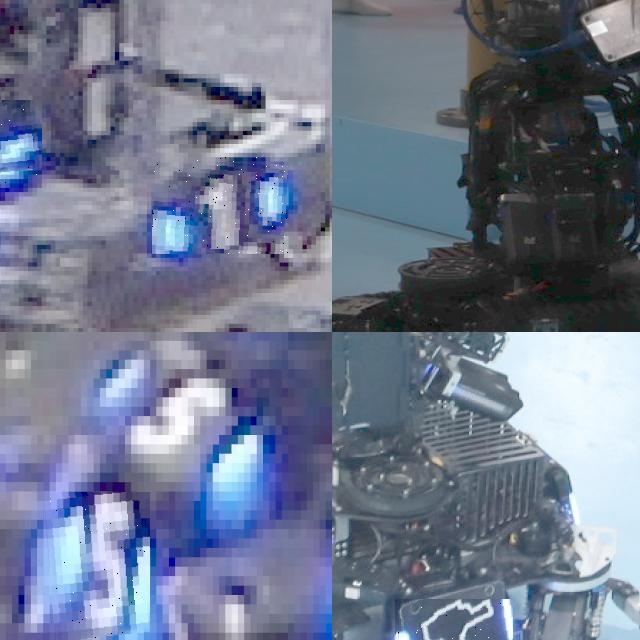B1: (152, 157, 288, 254), (0, 100, 41, 187)
B5: (43, 491, 149, 640)
Bs: (394, 599, 513, 640)
